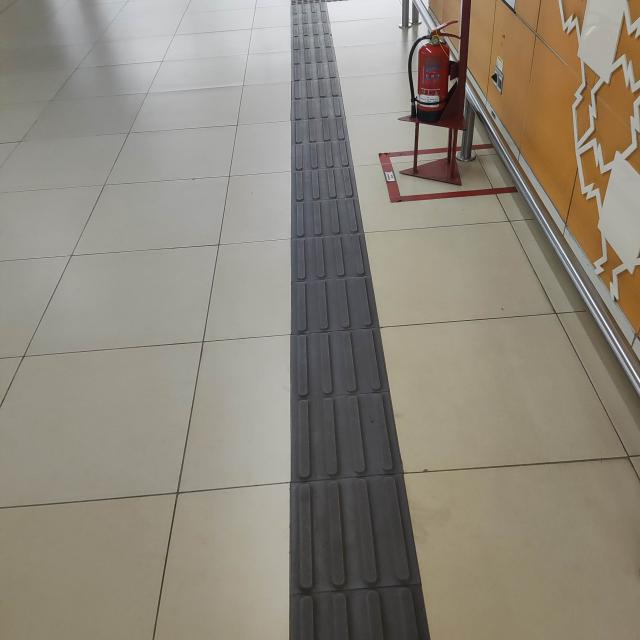lurus: (275, 20, 406, 640)
